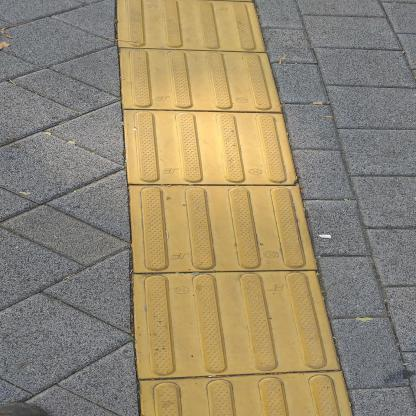podotacti: (100, 0, 367, 415)
